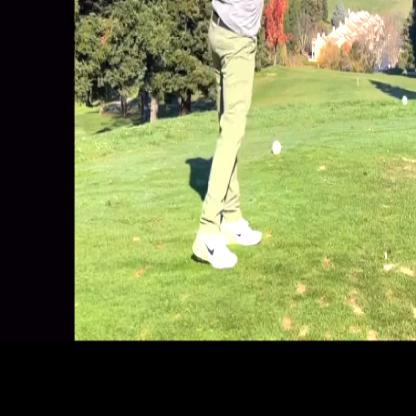ClubHead: (400, 90, 410, 108)
